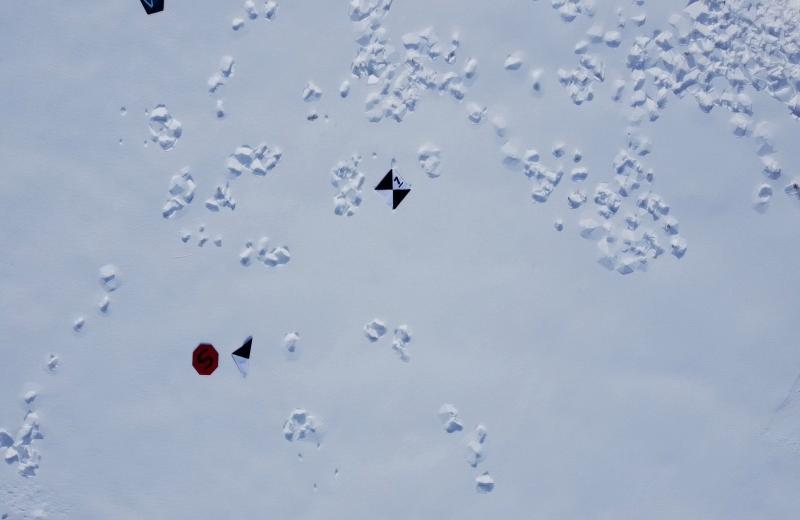Octagon: (188, 340, 222, 378)
Pentagon: (131, 0, 171, 18)
